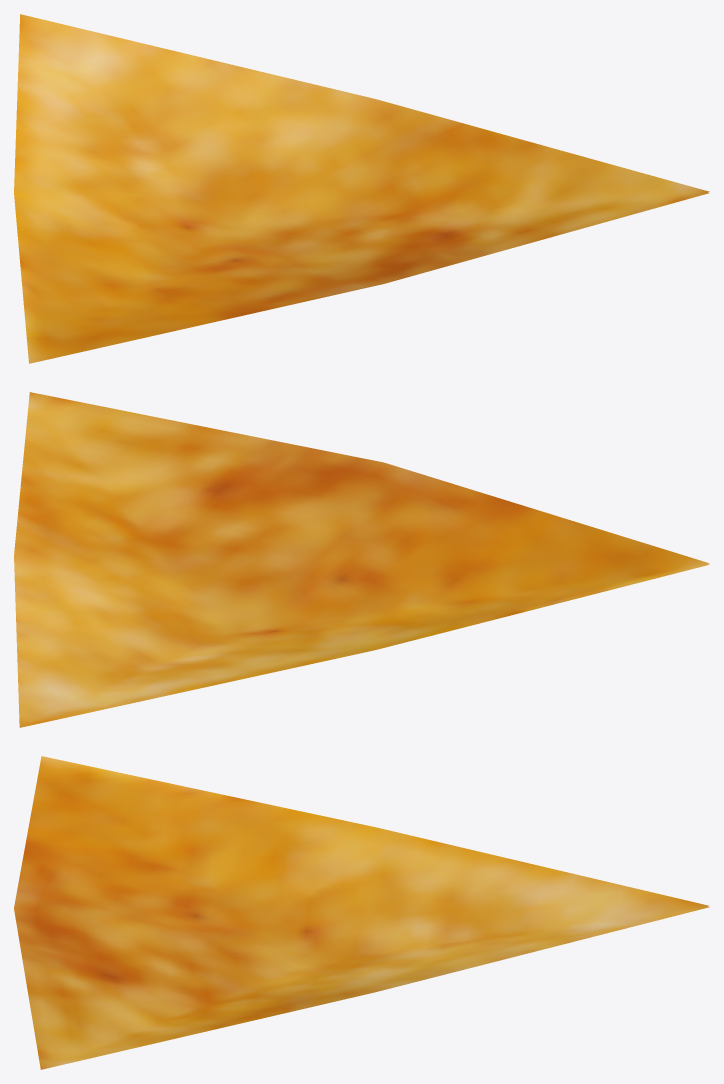
The model's file is Chips.fbx.
3 renders of one model, top to bottom at view 1: azimuth 30°, elevation 25°; view 2: azimuth 150°, elevation 25°; view 3: azimuth 270°, elevation 25°, orthographic. The views are drawn at different scales.
Visible parts, largest first — view 1: Chips; view 2: Chips; view 3: Chips.
Boxes of the visible parts, x1=… form: Chips: x1=14, y1=14, x2=709, y2=363; Chips: x1=14, y1=392, x2=709, y2=727; Chips: x1=14, y1=756, x2=709, y2=1069.
Size of the model in its own units: 7.05 by 6.53 by 0.5862.
